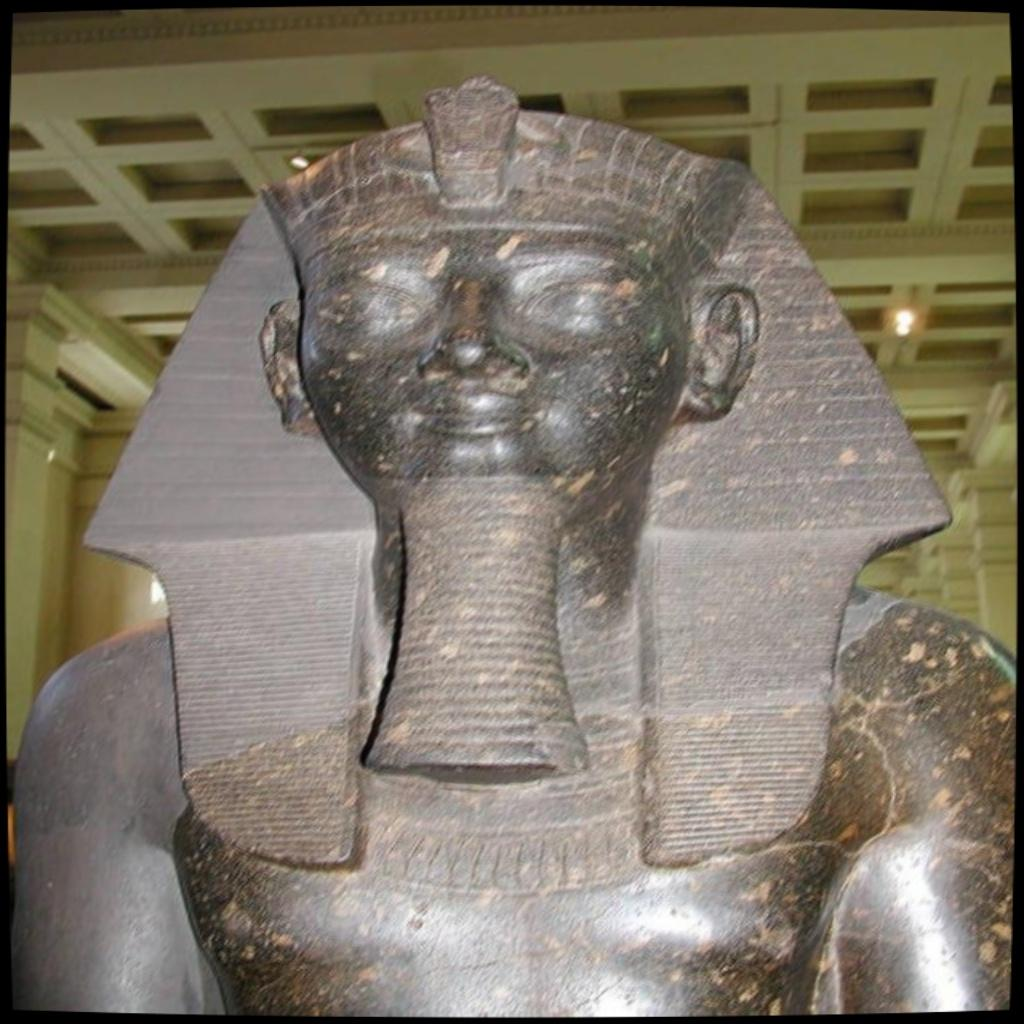Amenhotep III: (11, 74, 1013, 1014)
